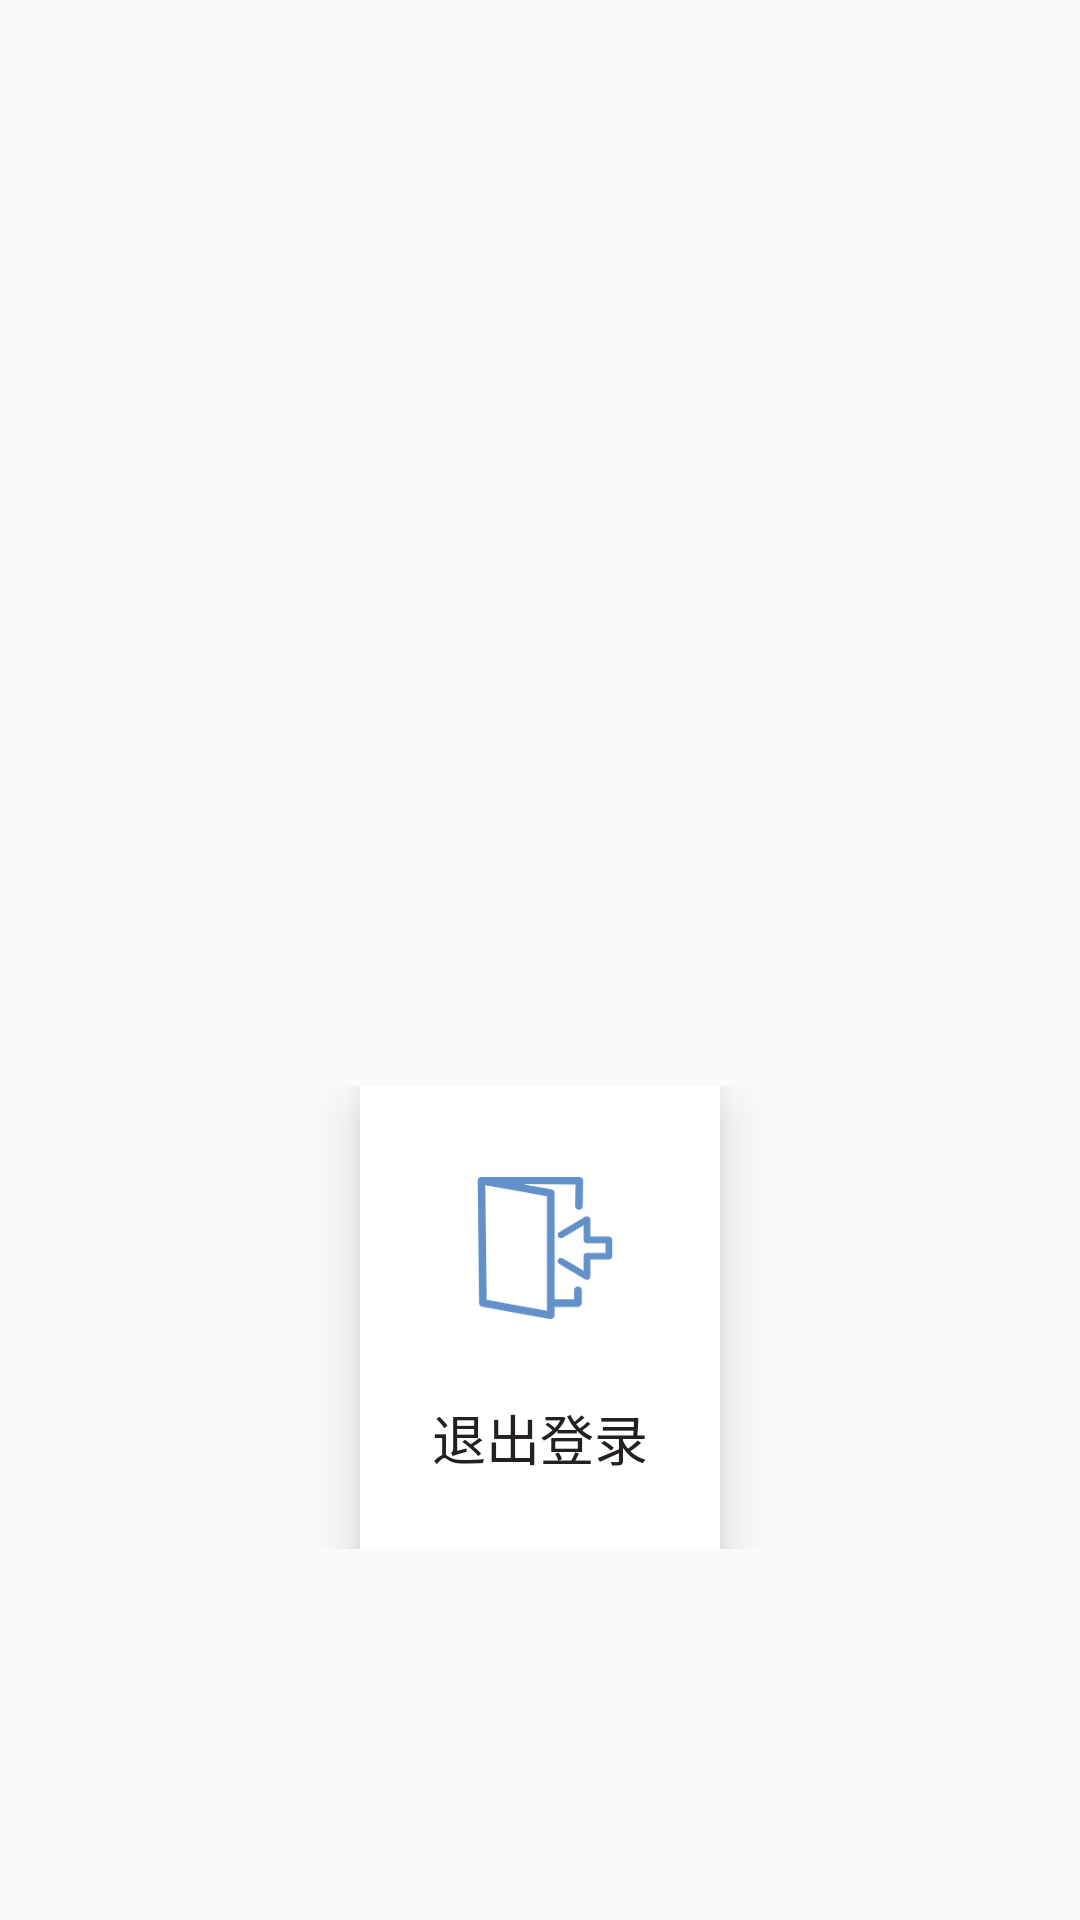

Screen size 1080*1920. Icon name, then its box in pixels as (x1, y1, x2, y2):
exit: (477, 1177, 613, 1319)
